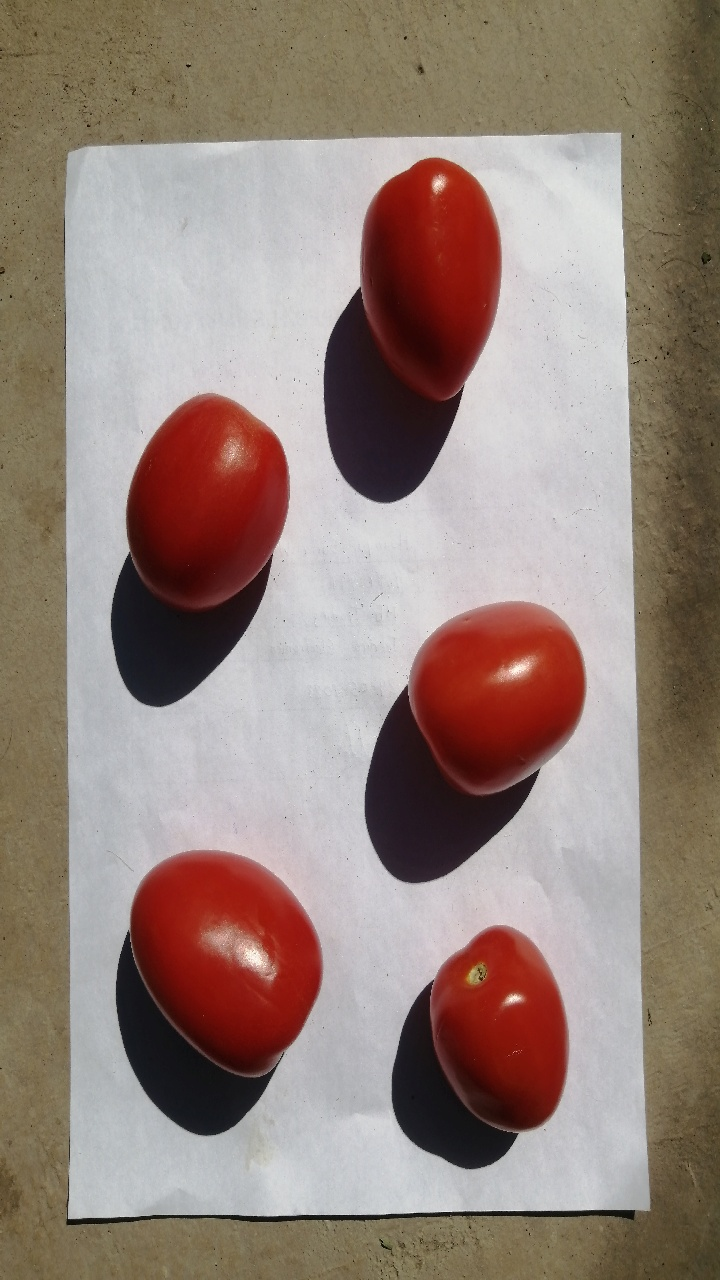tomateRojo: (108, 826, 349, 1105), (384, 566, 598, 826), (346, 143, 546, 417), (106, 363, 306, 629), (406, 894, 594, 1160)
